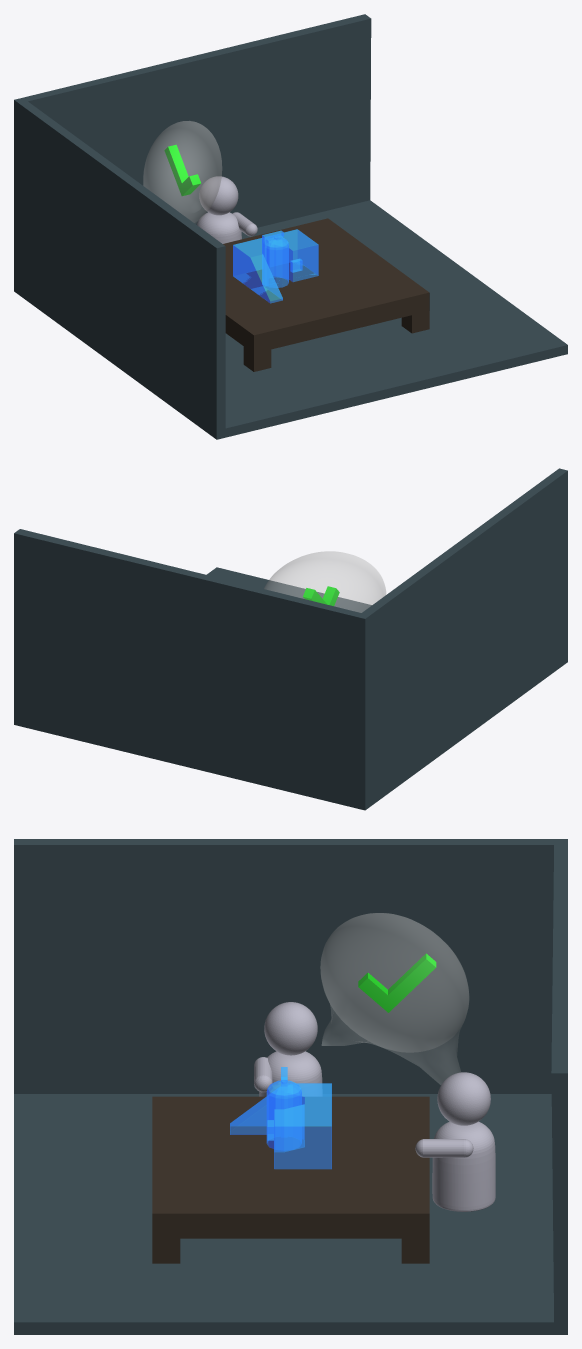
3 views of the same model, one above another, from view 1: azimuth 30°, elevation 25°; view 2: azimuth 150°, elevation 25°; view 3: azimuth 270°, elevation 25° (orthographic). The views are drawn at different scales.
Visible parts, largest first — view 1: Room.005, Table.001, Speech bubble, Base Origin Cube.020, Icosphere.037, Cylinder.031, Checkmark; view 2: Room.005, Speech bubble, Checkmark; view 3: Room.005, Table.001, Speech bubble, Base Origin Cube.020, Cylinder.031, Icosphere.037, Icosphere.035, Cylinder.026, Checkmark, Sphere.005.
Part boxes in pixels (x1,y1,x2,y2): Room.005: [14, 14, 567, 439]; Table.001: [223, 218, 429, 371]; Speech bubble: [143, 121, 222, 223]; Base Origin Cube.020: [233, 229, 318, 303]; Icosphere.037: [199, 176, 238, 215]; Cylinder.031: [197, 212, 241, 243]; Checkmark: [164, 144, 201, 196]; Room.005: [14, 468, 567, 810]; Speech bubble: [264, 551, 386, 612]; Checkmark: [303, 586, 339, 606]; Room.005: [14, 839, 567, 1334]; Table.001: [152, 1096, 429, 1263]; Speech bubble: [320, 913, 469, 1084]; Base Origin Cube.020: [230, 1067, 331, 1169]; Cylinder.031: [432, 1121, 495, 1211]; Icosphere.037: [437, 1072, 490, 1125]; Icosphere.035: [264, 1002, 317, 1055]; Cylinder.026: [259, 1051, 322, 1096]; Checkmark: [358, 953, 436, 1012]; Sphere.005: [415, 1139, 473, 1157].
Size of the model in its own units: 400 by 208 by 400.
